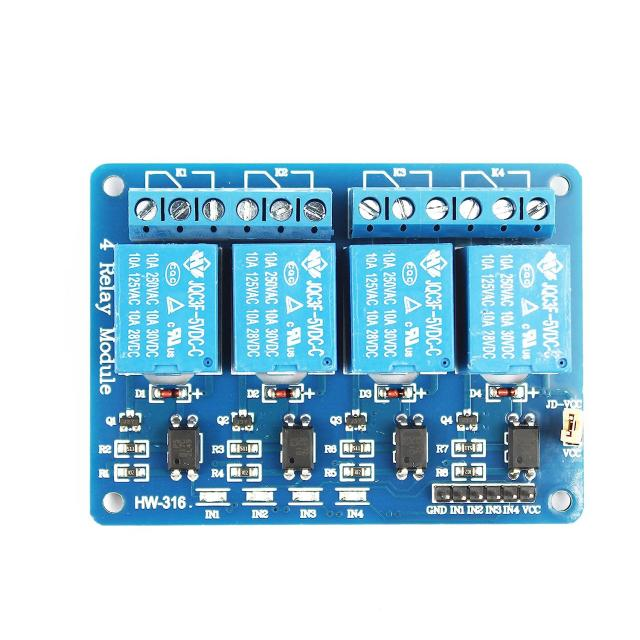4439: (231, 412, 253, 431), (119, 414, 141, 431), (345, 414, 367, 430), (458, 413, 478, 428)
IC: (163, 420, 201, 476), (390, 419, 430, 472), (278, 421, 317, 475)
LED: (295, 491, 318, 504), (248, 490, 270, 503), (341, 491, 369, 501), (200, 492, 224, 500)
connector -5v-: (118, 184, 334, 242), (438, 488, 536, 504), (560, 404, 584, 449)
diode -D1-: (147, 385, 189, 402), (492, 386, 523, 399), (268, 386, 298, 398), (382, 388, 409, 400)
relay: (346, 241, 458, 379), (229, 241, 340, 377), (461, 239, 569, 377), (111, 242, 218, 370)
resistor IR1: (120, 441, 142, 456), (458, 465, 478, 478), (234, 465, 253, 478), (122, 466, 140, 479), (458, 443, 479, 454), (346, 443, 368, 453), (234, 442, 252, 454), (348, 468, 367, 476)
